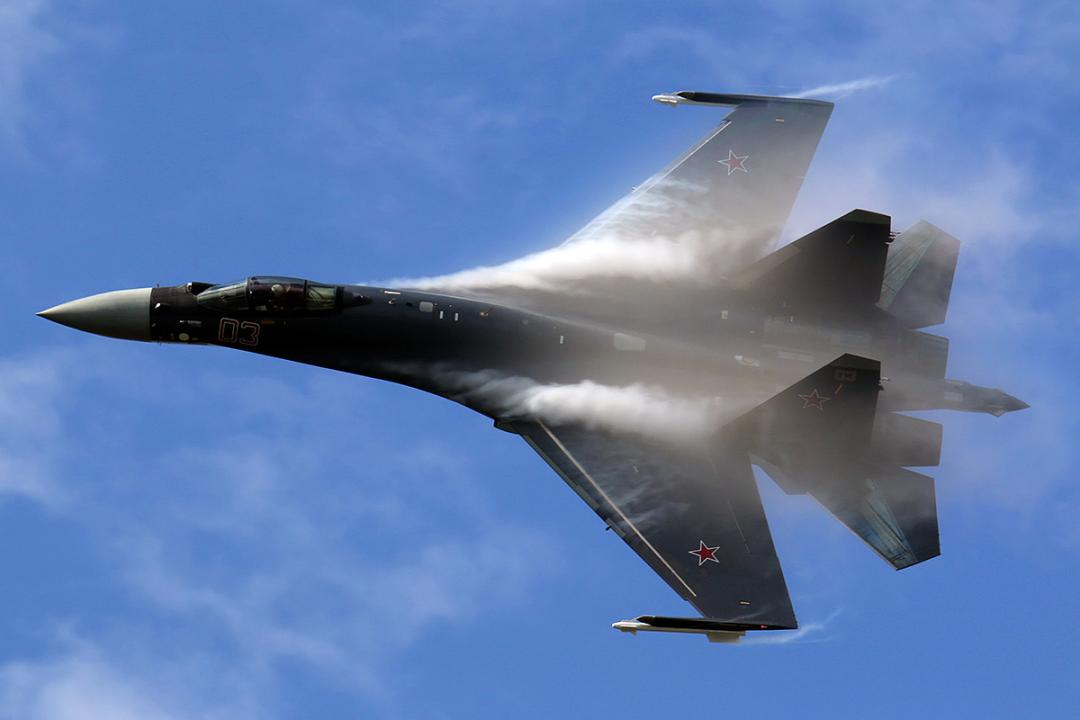airplane: (12, 81, 1033, 626)
